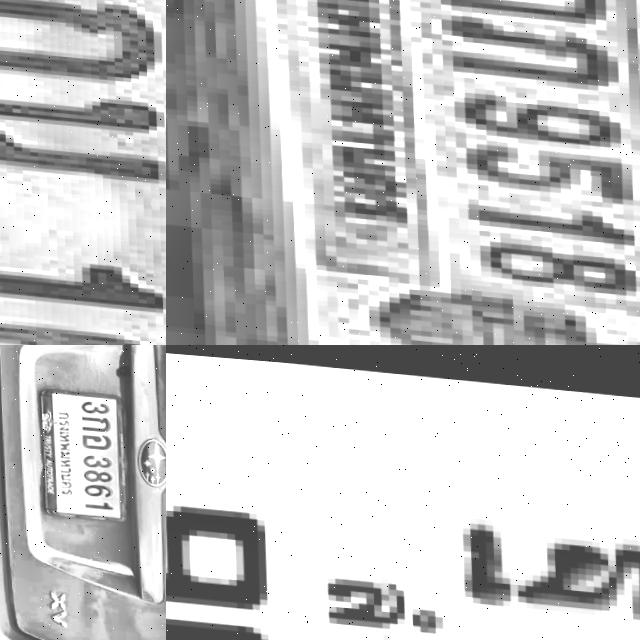license-plate: (174, 0, 640, 345), (166, 345, 640, 640), (0, 0, 166, 345), (31, 380, 128, 520)
